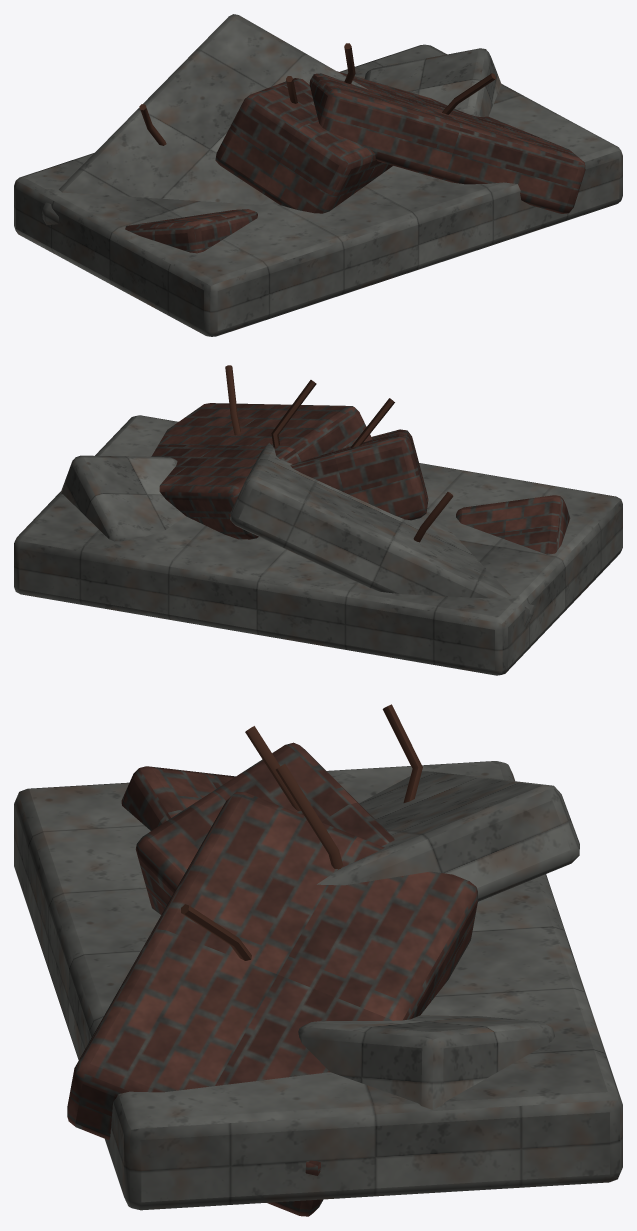
The model's file is rubble_pile.glb.
3 renders of one model, top to bottom at view 1: azimuth 30°, elevation 25°; view 2: azimuth 150°, elevation 25°; view 3: azimuth 270°, elevation 25°, orthographic. The views are drawn at different scales.
Visible parts, largest first — view 1: RubblePile; view 2: RubblePile; view 3: RubblePile.
Part boxes in pixels (x1=…): RubblePile: x1=14, y1=14, x2=622, y2=336; RubblePile: x1=14, y1=365, x2=622, y2=675; RubblePile: x1=14, y1=704, x2=622, y2=1216.
Bounding box in the file's own units: 2.3 × 0.931 × 1.6.
Materials: 3 (2 with a texture image).
